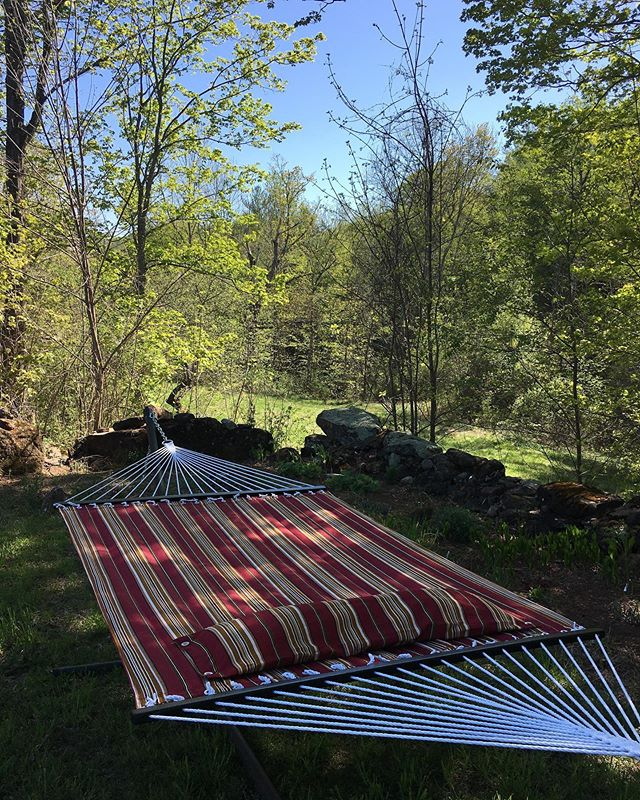hammock: (50, 453, 572, 788)
sky: (246, 1, 492, 178)
vegetation: (39, 1, 640, 439)
